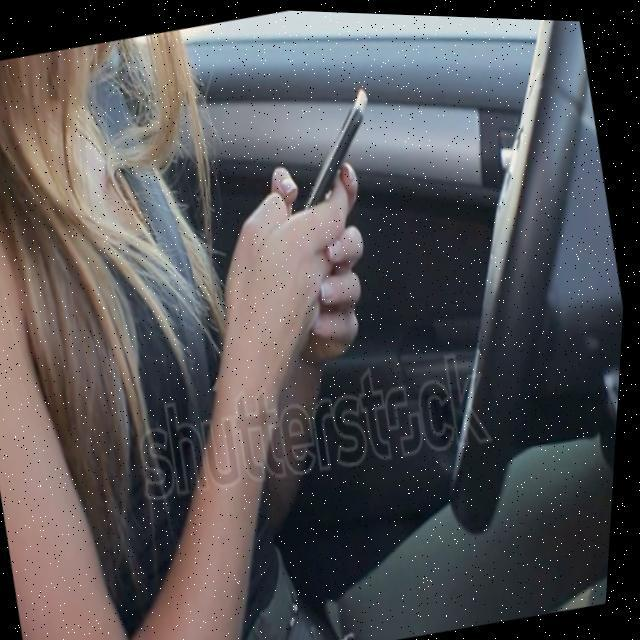PhoneCall: (277, 80, 391, 222)
